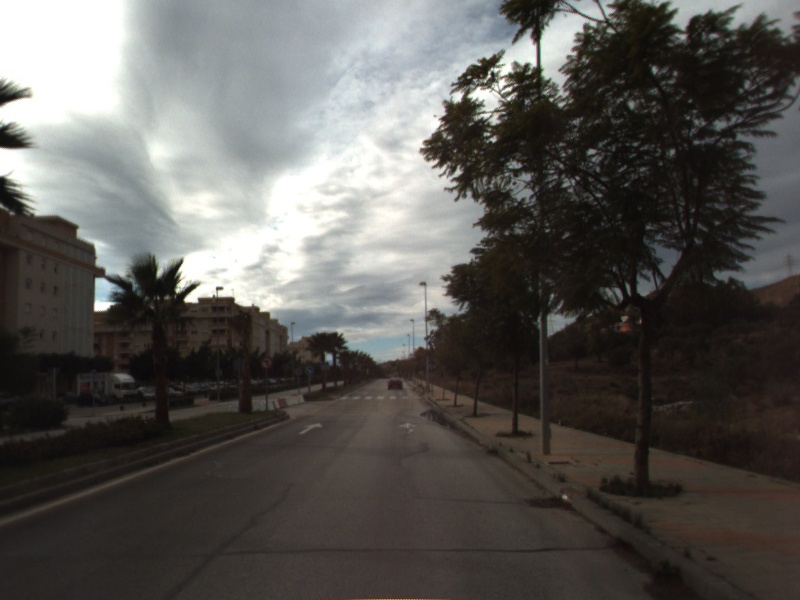STRAIGHT: (296, 420, 325, 437), (397, 420, 419, 436)
